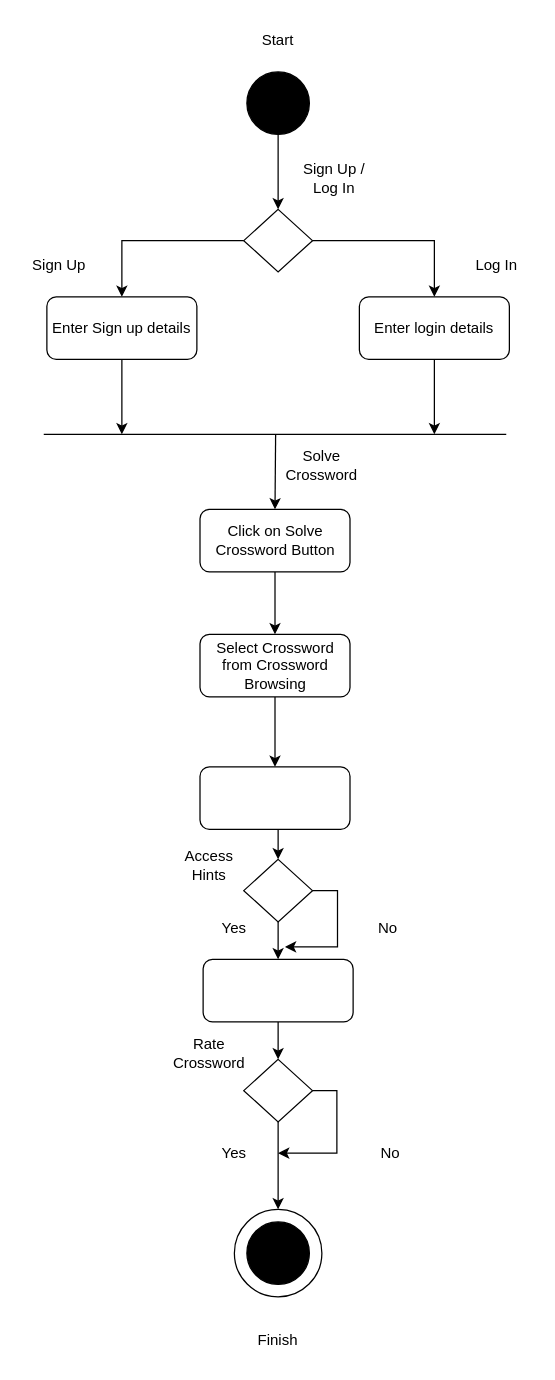
This 555x1380 diagram has some shape labels left out. Here are the shapes that lost their labels. From the top down, the centre of each, then its label:
At point (274, 797): "Click on Start button".
At point (277, 990): "Click on submit button".
